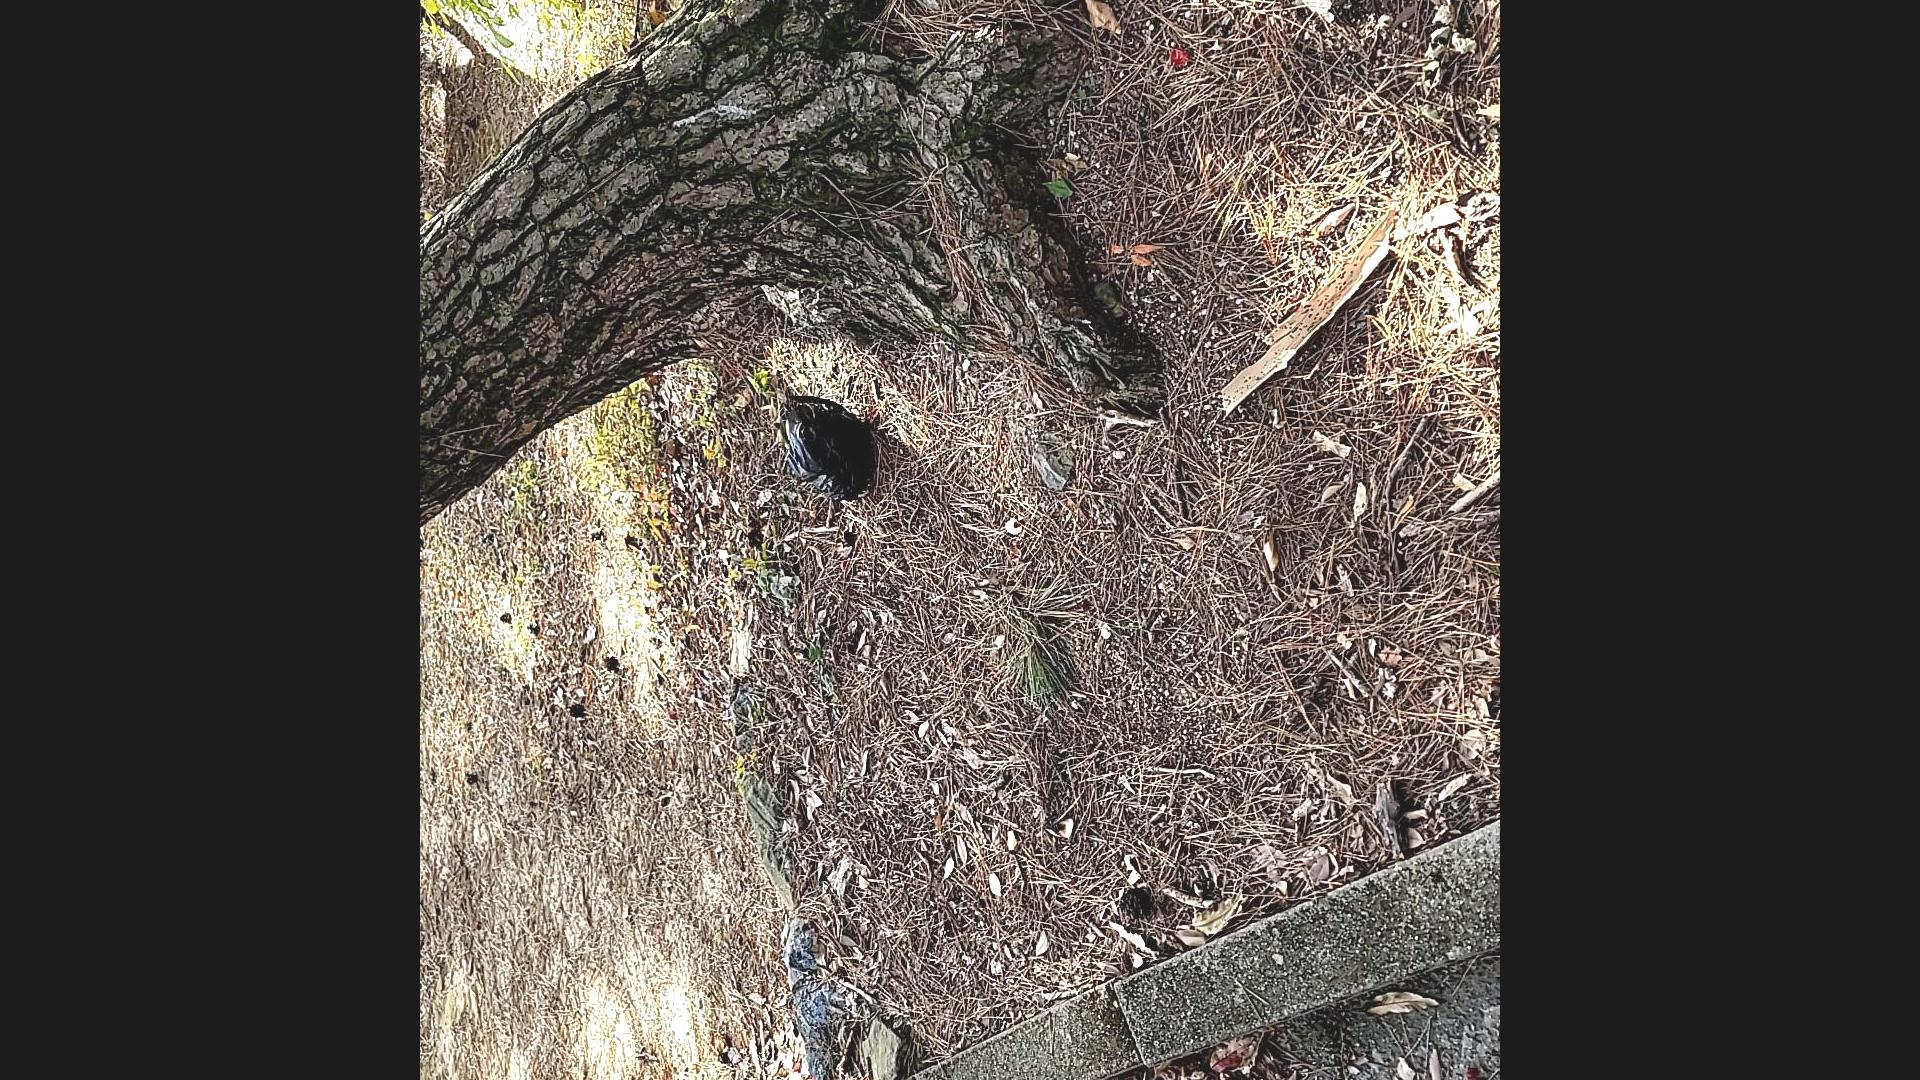black_bag: (775, 386, 880, 508)
